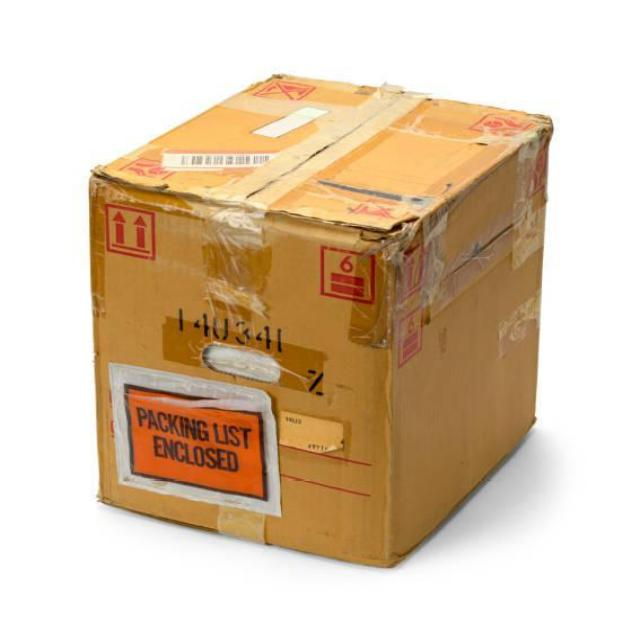cardboard: (86, 70, 556, 569)
